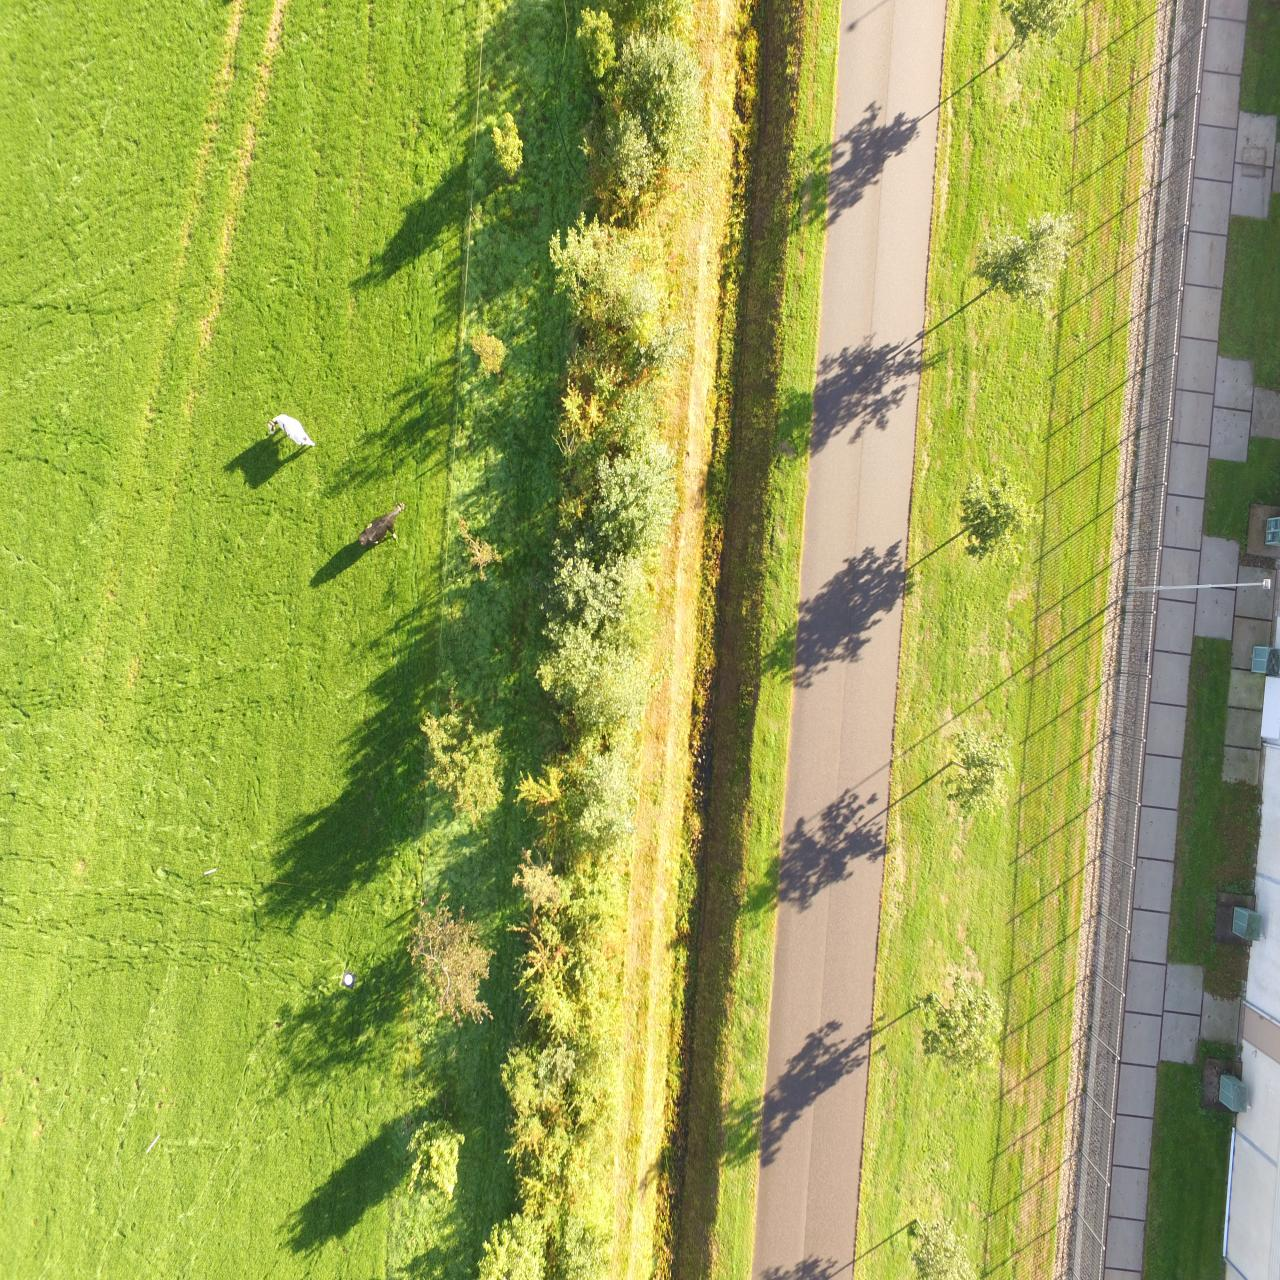cow: (358, 500, 404, 550), (266, 412, 316, 452)
